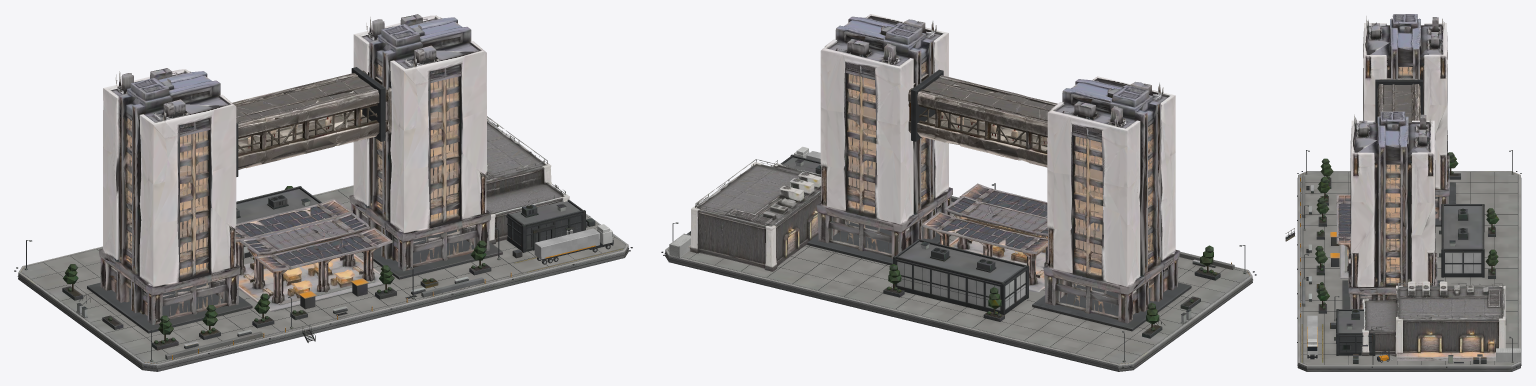
File: trade_center.lite.glb
3 renders of one model, left to right at view 1: azimuth 30°, elevation 25°; view 2: azimuth 150°, elevation 25°; view 3: azimuth 270°, elevation 25°, orthographic. The views are drawn at different scales.
Visible parts, largest first — view 1: parts_colony-officeTower, hull, parts_colony-marketArcade, parts_colony-skyBridge, parts_colony-loadingHall, parts_yard-truck; view 2: parts_colony-officeTower, hull, parts_colony-loadingHall, parts_colony-skyBridge, parts_colony-marketArcade; view 3: hull, parts_colony-officeTower, parts_colony-loadingHall, parts_colony-skyBridge, parts_colony-marketArcade, parts_yard-truck, parts_container.
Part boxes in pixels (left/top/right/bottom): parts_colony-officeTower: left=99, top=14, right=490, bottom=324; hull: left=14, top=67, right=632, bottom=371; parts_colony-marketArcade: left=235, top=198, right=392, bottom=311; parts_colony-skyBridge: left=232, top=70, right=391, bottom=169; parts_colony-loadingHall: left=486, top=116, right=569, bottom=244; parts_yard-truck: left=534, top=224, right=613, bottom=264; parts_colony-officeTower: left=816, top=14, right=1179, bottom=323; hull: left=661, top=69, right=1256, bottom=371; parts_colony-loadingHall: left=688, top=159, right=821, bottom=271; parts_colony-skyBridge: left=908, top=73, right=1057, bottom=167; parts_colony-marketArcade: left=922, top=183, right=1047, bottom=292; hull: left=1285, top=79, right=1521, bottom=371; parts_colony-officeTower: left=1348, top=14, right=1449, bottom=309; parts_colony-loadingHall: left=1362, top=281, right=1506, bottom=360; parts_colony-skyBridge: left=1377, top=78, right=1420, bottom=122; parts_colony-marketArcade: left=1336, top=194, right=1350, bottom=278; parts_yard-truck: left=1307, top=315, right=1317, bottom=359; parts_container: left=1496, top=348, right=1520, bottom=362.
Bounding box in the file's own units: 112 × 50.01 × 57.29.
Materials: 9 (9 with a texture image).
